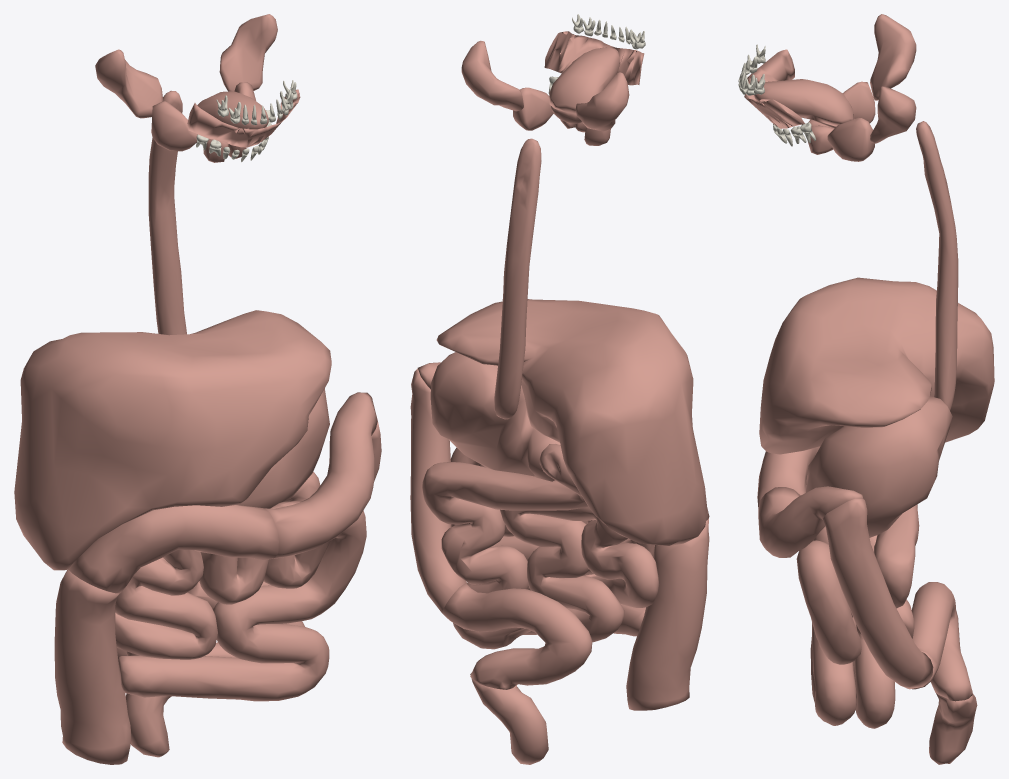
File: pediatric_neonate_female.digestive.LOD1.glb
The picture shows the model from 3 angles, left to right: view 1: azimuth 30°, elevation 25°; view 2: azimuth 150°, elevation 25°; view 3: azimuth 270°, elevation 25°; orthographic projection. The views are drawn at different scales.
Visible parts, largest first — view 1: PEDIATRIC.NEONATE.FEMALE.DIGESTIVE.LIVER, PEDIATRIC.NEONATE.FEMALE.DIGESTIVE.SMALL_INTESTINE_WALL, PEDIATRIC.NEONATE.FEMALE.DIGESTIVE.ASCENDING_COLON_WALL, PEDIATRIC.NEONATE.FEMALE.DIGESTIVE.TRANSVERSE_COLON_WALL.R, PEDIATRIC.NEONATE.FEMALE.DIGESTIVE.TRANSVERSE_COLON_WALL.L, PEDIATRIC.NEONATE.FEMALE.DIGESTIVE.OESOPHAGUS_WALL, PEDIATRIC.NEONATE.FEMALE.DIGESTIVE.SALIVARY_GLANDS.R, PEDIATRIC.NEONATE.FEMALE.DIGESTIVE.STOMACH_WALL, PEDIATRIC.NEONATE.FEMALE.DIGESTIVE.SALIVARY_GLANDS.L, PEDIATRIC.NEONATE.FEMALE.DIGESTIVE.RECTUM_WALL, PEDIATRIC.NEONATE.FEMALE.DIGESTIVE.ORAL_MUCOSA_LIP_AND_CHEEK, PEDIATRIC.NEONATE.FEMALE.DIGESTIVE.ORAL_MUCOSA_MOUTH_FLOOR (+2 smaller); view 2: PEDIATRIC.NEONATE.FEMALE.DIGESTIVE.LIVER, PEDIATRIC.NEONATE.FEMALE.DIGESTIVE.SMALL_INTESTINE_WALL, PEDIATRIC.NEONATE.FEMALE.DIGESTIVE.ASCENDING_COLON_WALL, PEDIATRIC.NEONATE.FEMALE.DIGESTIVE.SIGMOID_COLON_WALL, PEDIATRIC.NEONATE.FEMALE.DIGESTIVE.STOMACH_WALL, PEDIATRIC.NEONATE.FEMALE.DIGESTIVE.OESOPHAGUS_WALL, PEDIATRIC.NEONATE.FEMALE.DIGESTIVE.DESCENDING_COLON_WALL, PEDIATRIC.NEONATE.FEMALE.DIGESTIVE.SALIVARY_GLANDS.L, PEDIATRIC.NEONATE.FEMALE.DIGESTIVE.RECTUM_WALL, PEDIATRIC.NEONATE.FEMALE.DIGESTIVE.ORAL_MUCOSA_MOUTH_FLOOR, PEDIATRIC.NEONATE.FEMALE.DIGESTIVE.SALIVARY_GLANDS.R, PEDIATRIC.NEONATE.FEMALE.DIGESTIVE.ORAL_MUCOSA_LIP_AND_CHEEK (+1 smaller); view 3: PEDIATRIC.NEONATE.FEMALE.DIGESTIVE.LIVER, PEDIATRIC.NEONATE.FEMALE.DIGESTIVE.SMALL_INTESTINE_WALL, PEDIATRIC.NEONATE.FEMALE.DIGESTIVE.STOMACH_WALL, PEDIATRIC.NEONATE.FEMALE.DIGESTIVE.DESCENDING_COLON_WALL, PEDIATRIC.NEONATE.FEMALE.DIGESTIVE.OESOPHAGUS_WALL, PEDIATRIC.NEONATE.FEMALE.DIGESTIVE.SIGMOID_COLON_WALL, PEDIATRIC.NEONATE.FEMALE.DIGESTIVE.TRANSVERSE_COLON_WALL.L, PEDIATRIC.NEONATE.FEMALE.DIGESTIVE.SALIVARY_GLANDS.L, PEDIATRIC.NEONATE.FEMALE.DIGESTIVE.SALIVARY_GLANDS.R, PEDIATRIC.NEONATE.FEMALE.DIGESTIVE.ORAL_MUCOSA_MOUTH_FLOOR, PEDIATRIC.NEONATE.FEMALE.DIGESTIVE.RECTUM_WALL, PEDIATRIC.NEONATE.FEMALE.DIGESTIVE.TRANSVERSE_COLON_WALL.R (+3 smaller).
Boxes of the visible parts, x1,y1,x2,y2 form: PEDIATRIC.NEONATE.FEMALE.DIGESTIVE.LIVER: [14, 310, 331, 570]; PEDIATRIC.NEONATE.FEMALE.DIGESTIVE.SMALL_INTESTINE_WALL: [115, 472, 366, 701]; PEDIATRIC.NEONATE.FEMALE.DIGESTIVE.ASCENDING_COLON_WALL: [54, 569, 131, 764]; PEDIATRIC.NEONATE.FEMALE.DIGESTIVE.TRANSVERSE_COLON_WALL.R: [68, 505, 278, 593]; PEDIATRIC.NEONATE.FEMALE.DIGESTIVE.TRANSVERSE_COLON_WALL.L: [264, 392, 377, 558]; PEDIATRIC.NEONATE.FEMALE.DIGESTIVE.OESOPHAGUS_WALL: [148, 90, 186, 334]; PEDIATRIC.NEONATE.FEMALE.DIGESTIVE.SALIVARY_GLANDS.R: [95, 49, 228, 162]; PEDIATRIC.NEONATE.FEMALE.DIGESTIVE.STOMACH_WALL: [237, 388, 329, 508]; PEDIATRIC.NEONATE.FEMALE.DIGESTIVE.SALIVARY_GLANDS.L: [219, 14, 277, 158]; PEDIATRIC.NEONATE.FEMALE.DIGESTIVE.RECTUM_WALL: [125, 693, 171, 757]; PEDIATRIC.NEONATE.FEMALE.DIGESTIVE.ORAL_MUCOSA_LIP_AND_CHEEK: [187, 89, 300, 147]; PEDIATRIC.NEONATE.FEMALE.DIGESTIVE.ORAL_MUCOSA_MOUTH_FLOOR: [197, 91, 268, 129]; PEDIATRIC.NEONATE.FEMALE.DIGESTIVE.LIVER: [436, 299, 707, 545]; PEDIATRIC.NEONATE.FEMALE.DIGESTIVE.SMALL_INTESTINE_WALL: [422, 444, 659, 649]; PEDIATRIC.NEONATE.FEMALE.DIGESTIVE.ASCENDING_COLON_WALL: [626, 518, 709, 710]; PEDIATRIC.NEONATE.FEMALE.DIGESTIVE.SIGMOID_COLON_WALL: [442, 583, 592, 689]; PEDIATRIC.NEONATE.FEMALE.DIGESTIVE.STOMACH_WALL: [430, 352, 560, 481]; PEDIATRIC.NEONATE.FEMALE.DIGESTIVE.OESOPHAGUS_WALL: [494, 138, 541, 419]; PEDIATRIC.NEONATE.FEMALE.DIGESTIVE.DESCENDING_COLON_WALL: [410, 368, 466, 612]; PEDIATRIC.NEONATE.FEMALE.DIGESTIVE.SALIVARY_GLANDS.L: [461, 40, 575, 130]; PEDIATRIC.NEONATE.FEMALE.DIGESTIVE.RECTUM_WALL: [470, 673, 548, 764]; PEDIATRIC.NEONATE.FEMALE.DIGESTIVE.ORAL_MUCOSA_MOUTH_FLOOR: [549, 47, 619, 113]; PEDIATRIC.NEONATE.FEMALE.DIGESTIVE.SALIVARY_GLANDS.R: [575, 72, 629, 145]; PEDIATRIC.NEONATE.FEMALE.DIGESTIVE.ORAL_MUCOSA_LIP_AND_CHEEK: [544, 31, 644, 85]; PEDIATRIC.NEONATE.FEMALE.DIGESTIVE.LIVER: [759, 277, 994, 454]; PEDIATRIC.NEONATE.FEMALE.DIGESTIVE.SMALL_INTESTINE_WALL: [796, 476, 919, 728]; PEDIATRIC.NEONATE.FEMALE.DIGESTIVE.STOMACH_WALL: [806, 396, 952, 537]; PEDIATRIC.NEONATE.FEMALE.DIGESTIVE.DESCENDING_COLON_WALL: [822, 498, 933, 689]; PEDIATRIC.NEONATE.FEMALE.DIGESTIVE.OESOPHAGUS_WALL: [916, 121, 958, 410]; PEDIATRIC.NEONATE.FEMALE.DIGESTIVE.SIGMOID_COLON_WALL: [911, 582, 972, 701]; PEDIATRIC.NEONATE.FEMALE.DIGESTIVE.TRANSVERSE_COLON_WALL.L: [758, 486, 863, 557]; PEDIATRIC.NEONATE.FEMALE.DIGESTIVE.SALIVARY_GLANDS.L: [808, 86, 916, 161]; PEDIATRIC.NEONATE.FEMALE.DIGESTIVE.SALIVARY_GLANDS.R: [808, 14, 916, 128]; PEDIATRIC.NEONATE.FEMALE.DIGESTIVE.ORAL_MUCOSA_MOUTH_FLOOR: [754, 79, 854, 126]; PEDIATRIC.NEONATE.FEMALE.DIGESTIVE.RECTUM_WALL: [929, 693, 977, 764]; PEDIATRIC.NEONATE.FEMALE.DIGESTIVE.TRANSVERSE_COLON_WALL.R: [757, 446, 820, 508].
Size of the model in its own units: 0.1162 by 0.2541 by 0.0824.
